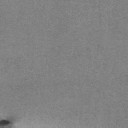iron sheet ash: (0, 120, 12, 128)
